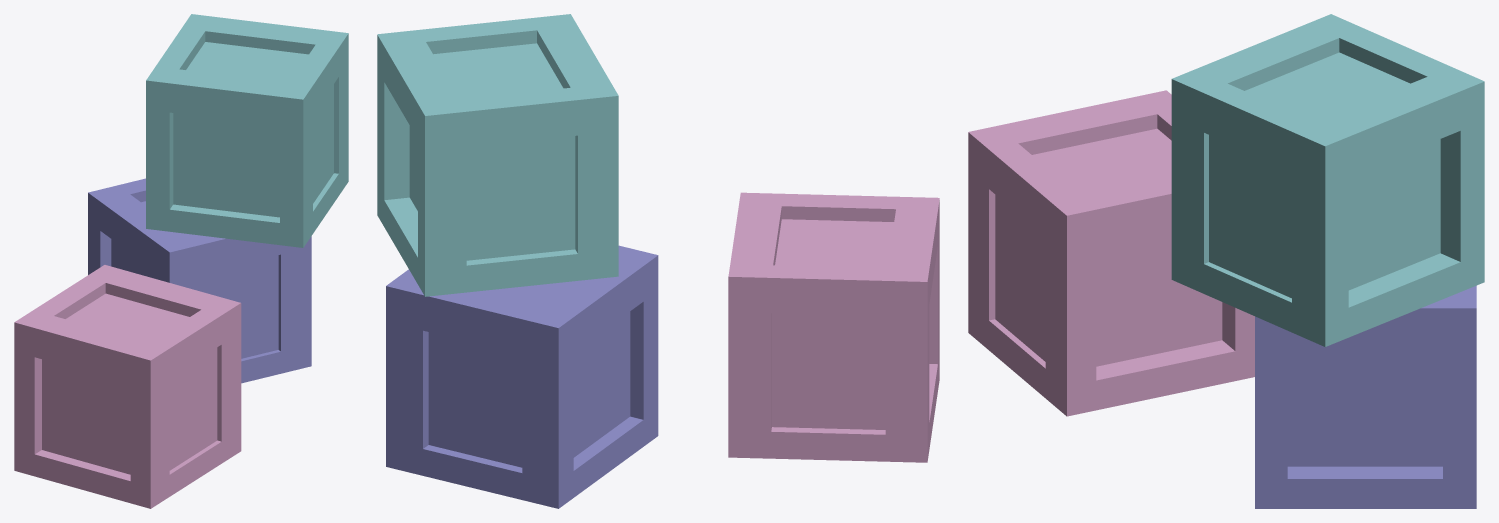
The model's file is toyblock.fbx.
3 renders of one model, left to right at view 1: azimuth 30°, elevation 25°; view 2: azimuth 150°, elevation 25°; view 3: azimuth 270°, elevation 25°, orthographic. The views are drawn at different scales.
Visible parts, largest first — view 1: toyblock; view 2: toyblock; view 3: toyblock.
Boxes of the visible parts, x1,y1,x2,y2 form: toyblock: (14,14,348,508); toyblock: (377,14,939,508); toyblock: (968,14,1484,508).
Size of the model in its own units: 2.14 by 1.55 by 1.8.
